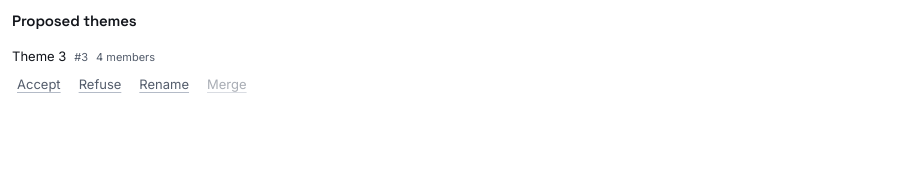
it: ThemesProposed › says the daemon is not responding when a rename fails without an answer
Click the button with aria-label "Rename theme 3".
click(164, 84)  # box [134,70,194,98]
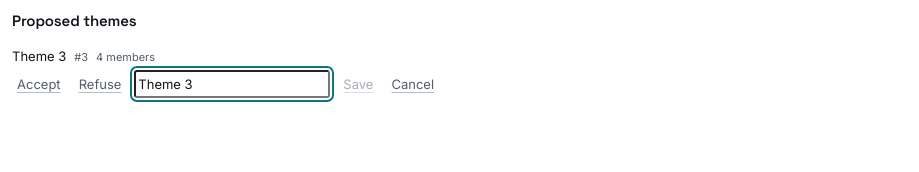
Replace the text in the field named "New name for theme 3" with "Sleep" at (232, 84), box [134,70,330,98]
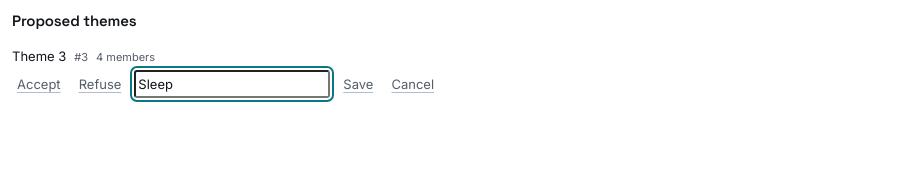
Click the button with aria-label "Save name of theme 3".
click(358, 84)  # box [338,70,378,98]
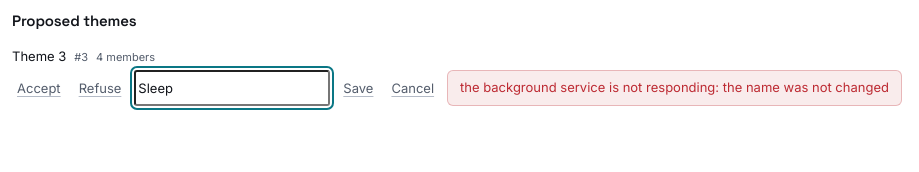
expect the text "is not responding: the name was not changed" is shown: met, box [460,79,889,95]
